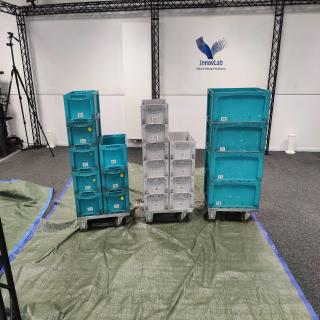Box8G: (170, 132, 199, 160), (141, 99, 171, 126), (142, 125, 170, 144), (143, 144, 171, 162), (170, 160, 197, 178), (144, 161, 171, 179), (145, 178, 171, 195), (170, 179, 197, 195), (145, 195, 170, 212), (171, 195, 197, 211)
BoxB4: (204, 173, 263, 213), (204, 146, 266, 184), (208, 89, 272, 125), (206, 122, 269, 155)
BoxB8: (64, 91, 105, 122), (66, 116, 104, 149), (101, 134, 132, 172), (71, 145, 100, 175), (73, 172, 103, 196), (77, 194, 104, 220), (102, 172, 131, 196), (104, 194, 134, 217)
